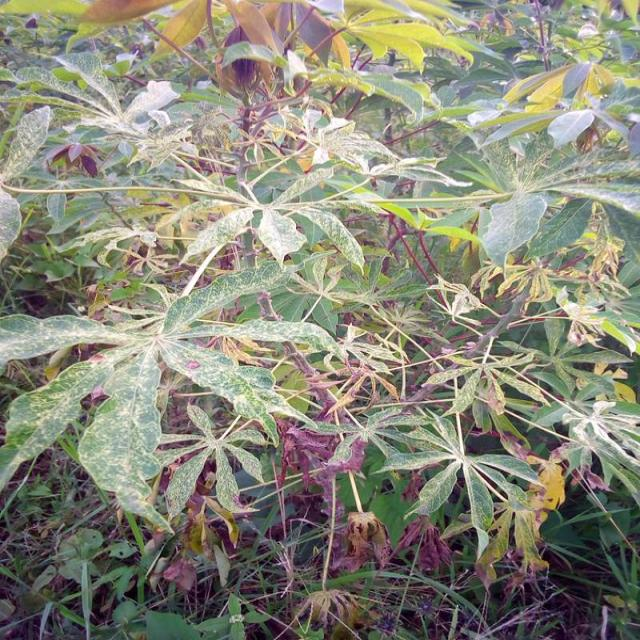cassava leaf: (77, 344, 172, 534)
